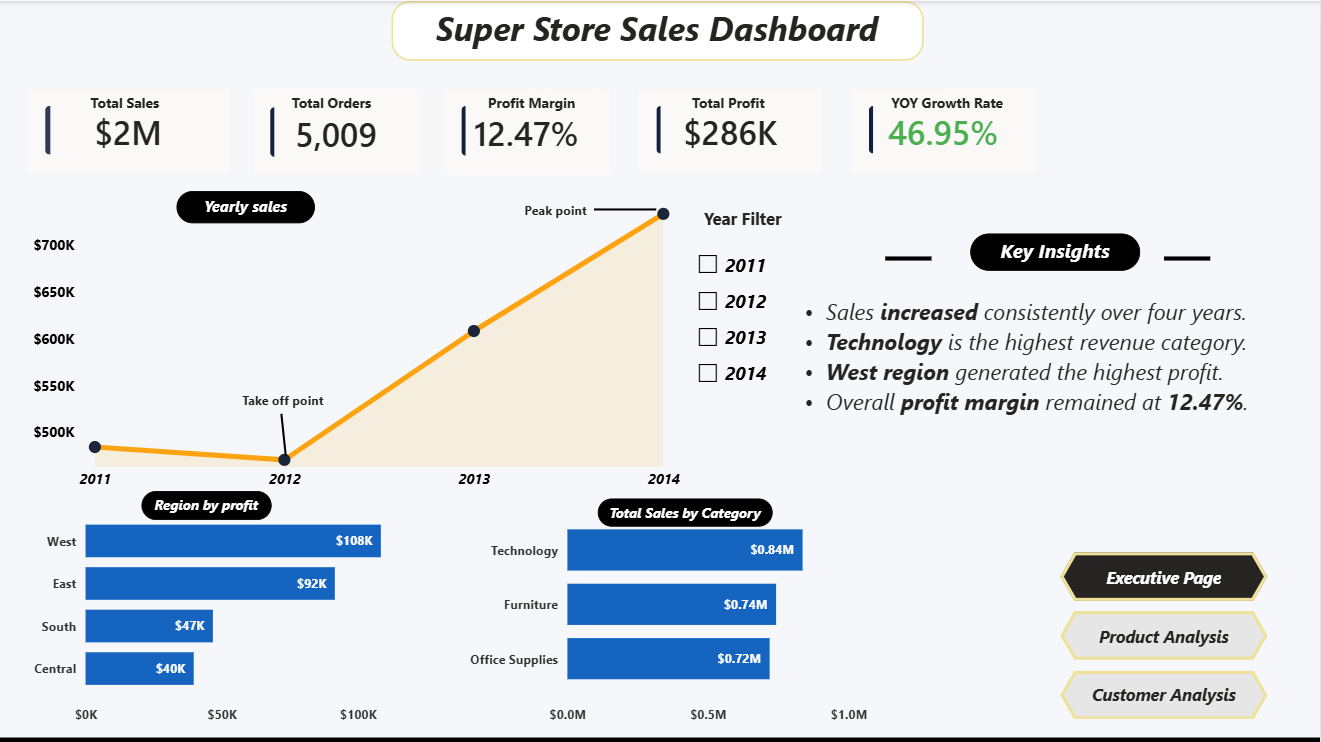

Layout of this report page (visuals, bound fields, positions):
{"tool":"powerbi","page":{"name":"Executive Page","canvas":[1280,720],"ordinal":0},"visuals":[{"type":"textbox","box":[383.4,0,513.2,57.6],"z":0},{"type":"cardVisual","fields":{"Data":["Measures (2).Total Sales"]},"box":[32.6,84.5,194.3,81.6],"z":1000},{"type":"cardVisual","fields":{"Data":["Measures (2).Total Profit"]},"box":[622.5,84.5,176.1,80.8],"z":2000},{"type":"cardVisual","fields":{"Data":["Measures (2).Total Orders"]},"box":[249.7,85.7,161.7,82],"z":3000},{"type":"cardVisual","fields":{"Data":["Measures (2).Profit Margin %"]},"box":[434.3,84.5,161.7,82],"z":4000},{"type":"lineChart","fields":{"Y":["Measures (2).Total Sales"],"Category":["Date Table.YearNumber"]},"box":[32.6,185.4,634.7,295.1],"z":5000},{"type":"clusteredBarChart","fields":{"Y":["Measures (2).Total Sales"],"Category":["Orders.Category"]},"box":[453.8,480.5,394.4,226.9],"z":6000},{"type":"clusteredBarChart","fields":{"Y":["Measures (2).Total Profit"],"Category":["Orders.Region"]},"box":[32.6,480.5,394.4,226.9],"z":7000},{"type":"slicer","fields":{"Values":["Date Table.YearNumber"]},"box":[667.2,231.6,109.8,255.8],"z":8000},{"type":"textbox","box":[50.4,84.5,151.3,29.7],"z":9000},{"type":"textbox","box":[267.8,84.5,115.8,27.7],"z":10000},{"type":"textbox","box":[441.6,84.5,154.4,27.7],"z":11000},{"type":"textbox","box":[639.4,84.5,138.7,27.7],"z":12000},{"type":"pageNavigator","box":[1029.1,532,200.3,161.7],"z":13000},{"type":"textbox","box":[176.1,183.4,133.9,31.4],"z":14000},{"type":"textbox","box":[142.4,472.9,125.5,27.7],"z":15000},{"type":"textbox","box":[583.2,480.3,168.8,27.4],"z":16000},{"type":"textbox","box":[760.1,279.9,507.9,138.7],"z":17000},{"type":"textbox","box":[942.2,224.4,164.1,36.2],"z":18000},{"type":"shape","box":[1129.2,224.4,44.6,48.3],"z":19000},{"type":"shape","box":[860.2,224.4,44.6,48.3],"z":20000},{"type":"shape","box":[0,706.7,1280.3,13.7],"z":21000},{"type":"textbox","box":[646.7,194.2,152,37.4],"z":22000},{"type":"textbox","box":[227.8,370.5,101.5,27.4],"z":23000},{"type":"shape","box":[227.8,397.9,102.9,41.2],"z":24000},{"type":"textbox","box":[488.5,186.6,107,27.4],"z":25000},{"type":"shape","box":[579.1,178.4,60.4,45.3],"z":26000},{"type":"cardVisual","fields":{"Data":["Measures (2).YoY Growth %"]},"box":[827.6,84.5,177.3,80.8],"z":27000},{"type":"textbox","box":[850.5,84.5,138.7,29],"z":28000}]}

Visuals, with their boxes in screenshot pixels (x1, y1, x2, y2), scaled from the page's 1280x720 canvas onto the 1321x742 screenshot:
textbox: 396:0:925:59
cardVisual - Measures (2).Total Sales: 34:87:234:171
cardVisual - Measures (2).Total Profit: 642:87:824:170
cardVisual - Measures (2).Total Orders: 258:88:425:173
cardVisual - Measures (2).Profit Margin %: 448:87:615:172
lineChart - Measures (2).Total Sales x Date Table.YearNumber: 34:191:689:495
clusteredBarChart - Measures (2).Total Sales x Orders.Category: 468:495:875:729
clusteredBarChart - Measures (2).Total Profit x Orders.Region: 34:495:441:729
slicer - Date Table.YearNumber: 689:239:802:502
textbox: 52:87:208:118
textbox: 276:87:396:116
textbox: 456:87:615:116
textbox: 660:87:803:116
pageNavigator: 1062:548:1269:715
textbox: 182:189:320:221
textbox: 147:487:276:516
textbox: 602:495:776:523
textbox: 784:288:1309:431
textbox: 972:231:1142:269
shape: 1165:231:1211:281
shape: 888:231:934:281
shape: 0:728:1320:741
textbox: 667:200:824:239
textbox: 235:382:340:410
shape: 235:410:341:453
textbox: 504:192:615:221
shape: 598:184:660:231
cardVisual - Measures (2).YoY Growth %: 854:87:1037:170
textbox: 878:87:1021:117
